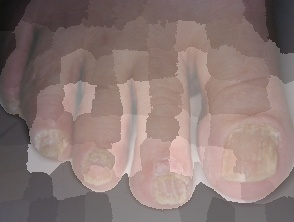Nail_psoriasis: (213, 110, 290, 195), (66, 135, 132, 201), (147, 146, 198, 211), (36, 134, 65, 157), (4, 99, 24, 116)
